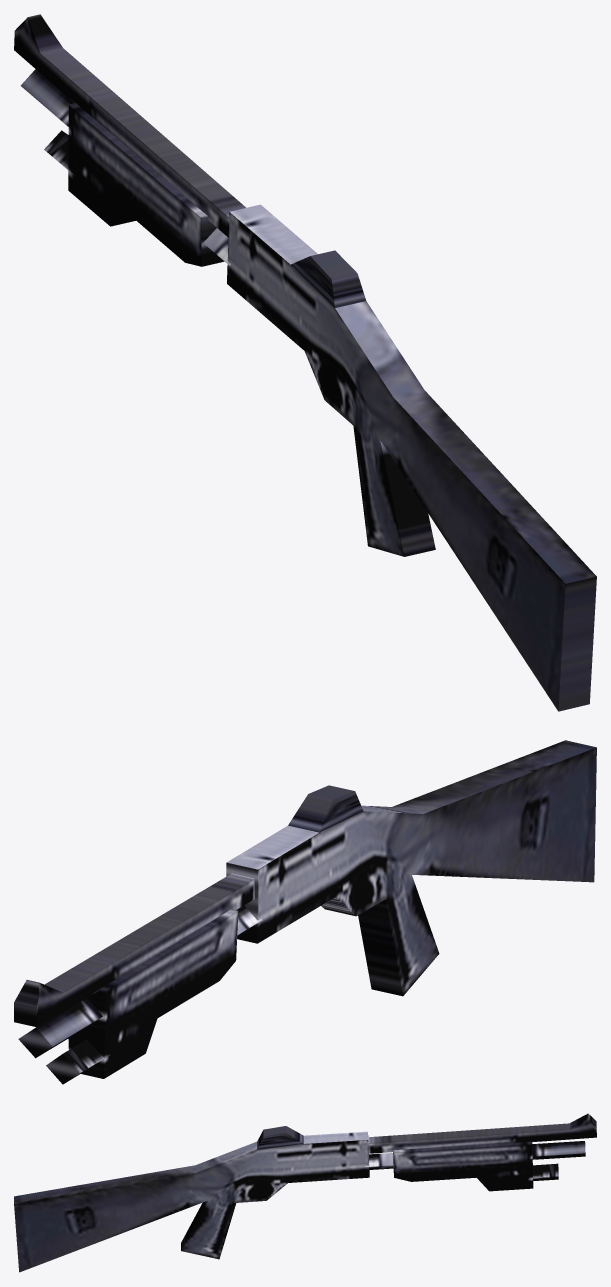
The model's file is p_m3super90.glb.
3 renders of one model, top to bottom at view 1: azimuth 30°, elevation 25°; view 2: azimuth 150°, elevation 25°; view 3: azimuth 270°, elevation 25°, orthographic. The views are drawn at different scales.
Visible parts, largest first — view 1: p_m3super90; view 2: p_m3super90; view 3: p_m3super90.
Part boxes in pixels (x1,y1,x2,y2): p_m3super90: [14, 14, 596, 711]; p_m3super90: [14, 740, 596, 1084]; p_m3super90: [14, 1113, 596, 1272].
Size of the model in its own units: 0.0431 by 0.3106 by 1.06.
Materials: 1 (1 with a texture image).
